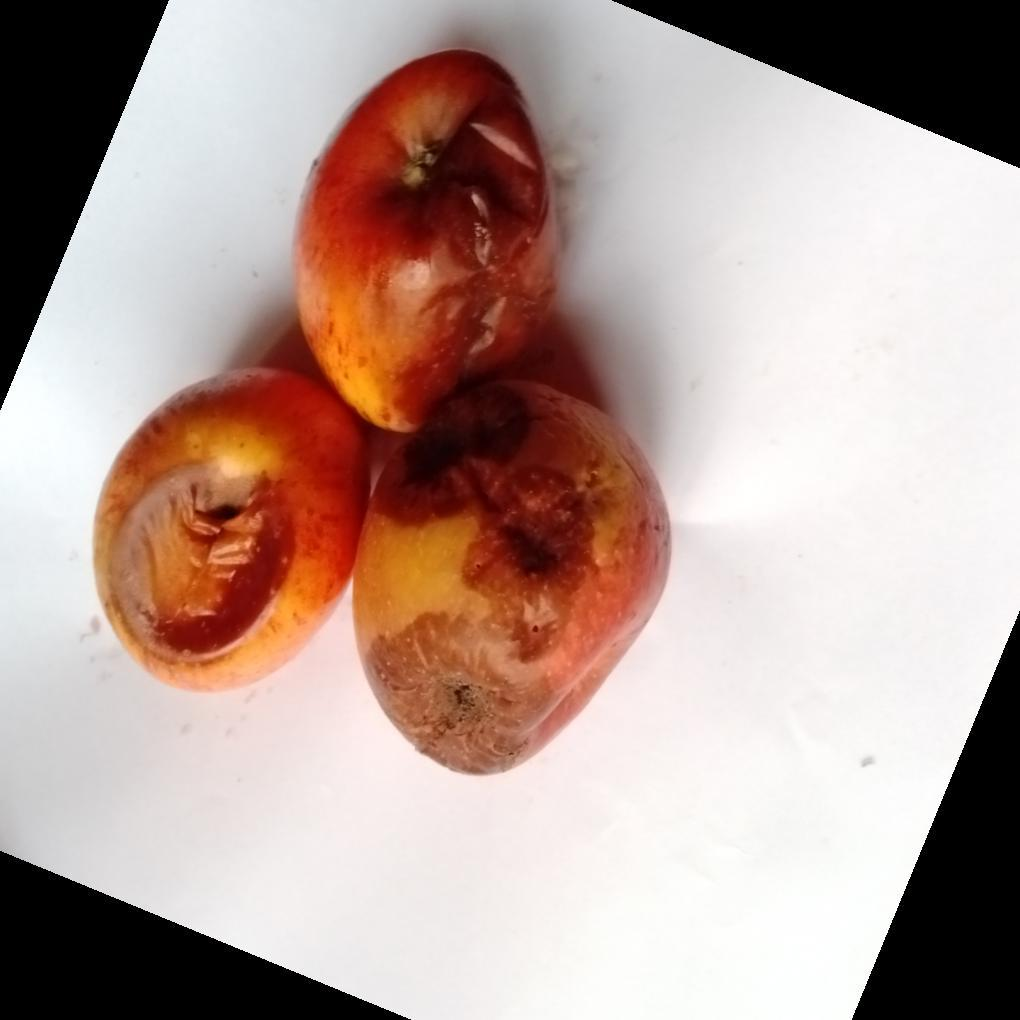FreshOrange: (123, 51, 672, 768)
